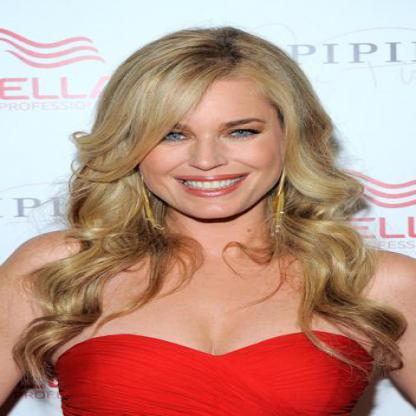long-hair: (29, 220, 386, 284)
